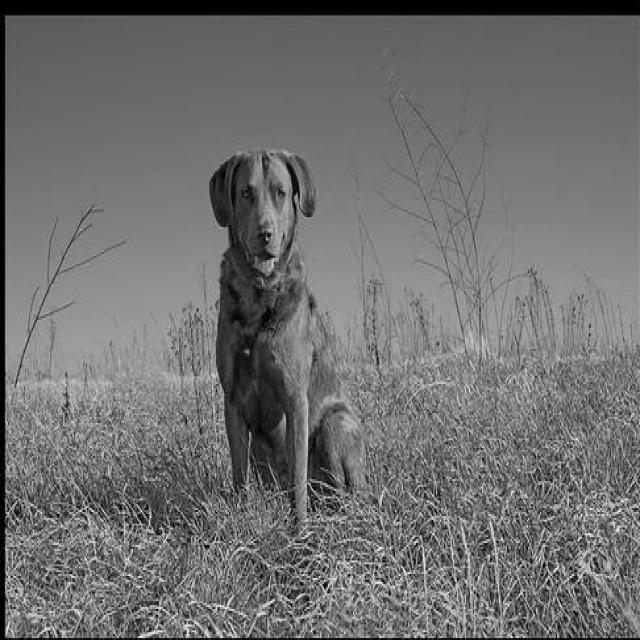sitting: (204, 146, 372, 534)
